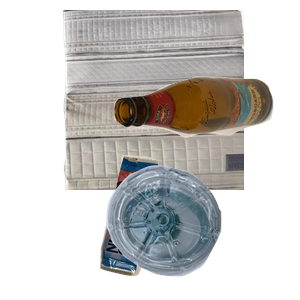glass: (111, 74, 300, 204)
paper: (60, 10, 300, 190)
plastic: (104, 163, 300, 300)
trash: (97, 152, 248, 300)
